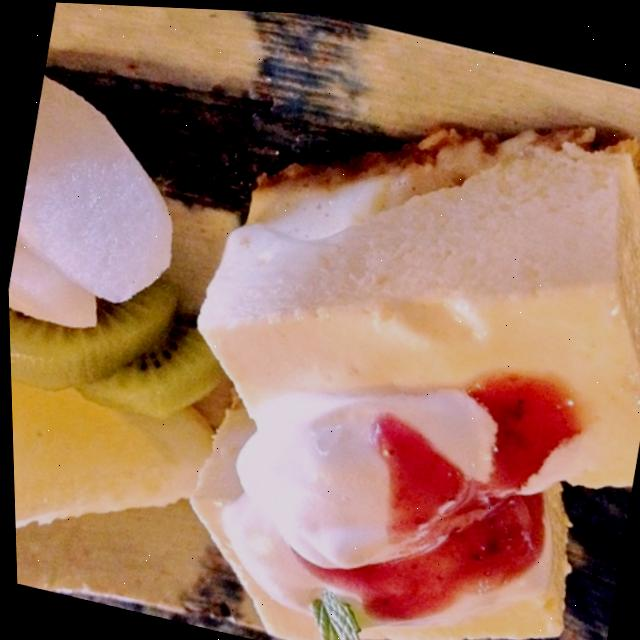蛋糕甜品: (72, 9, 640, 640)
